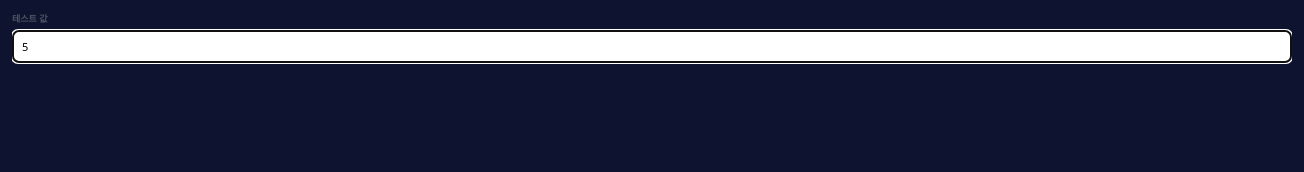
it: NumberCommitInput(S15P21A604-554) › Escape를 누르면 원래 값으로 되돌아가고 커밋되지 않는다
Replace the text in the field labelled "테스트 값" with "999". click: (652, 46)
box: 12,30 -> 1292,63
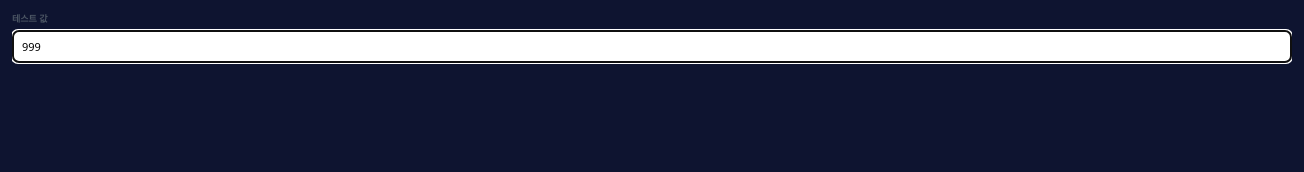
Press Escape in the field labelled "테스트 값", box 12,30 -> 1292,63
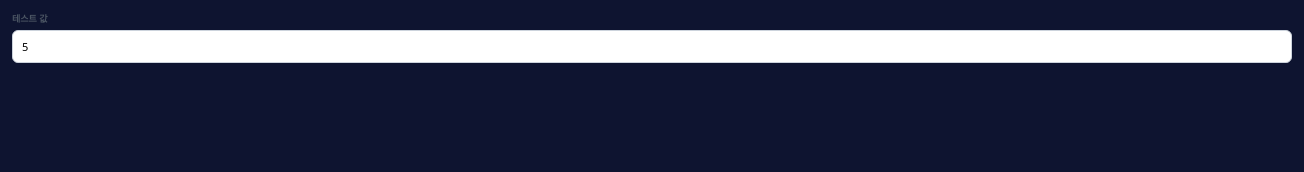
Expected: the field labelled "테스트 값" holds "5", 12,30 -> 1292,63
